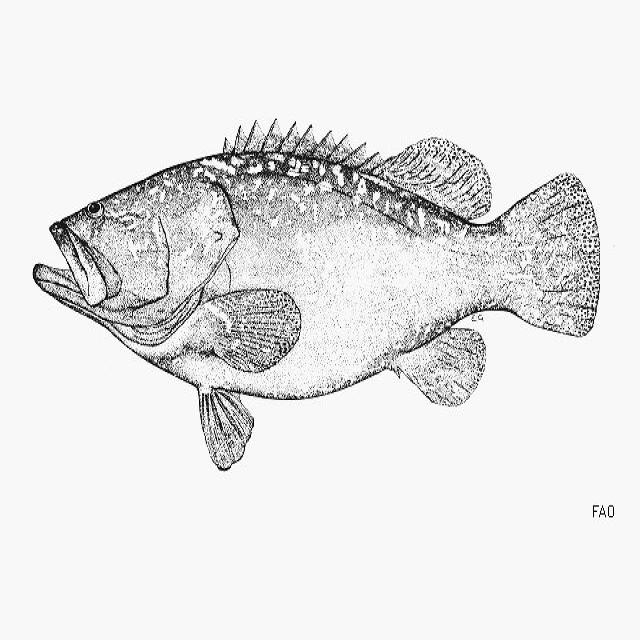ikan: (32, 116, 601, 471)
